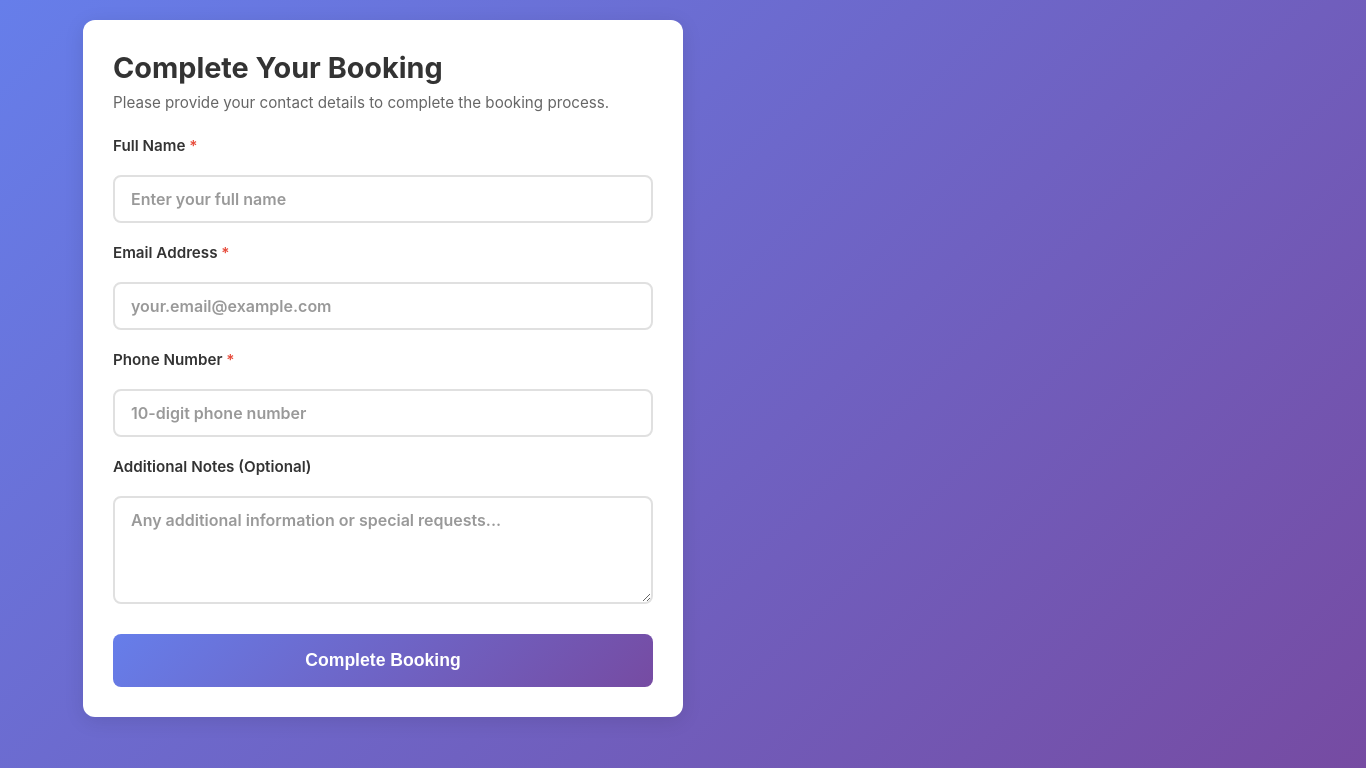
Test case: ContactForm › validates email format
Fill required fields first
Type "John Doe" into the field labelled "Full Name *" at [383, 199], box x1=113 y1=175 x2=653 y2=223
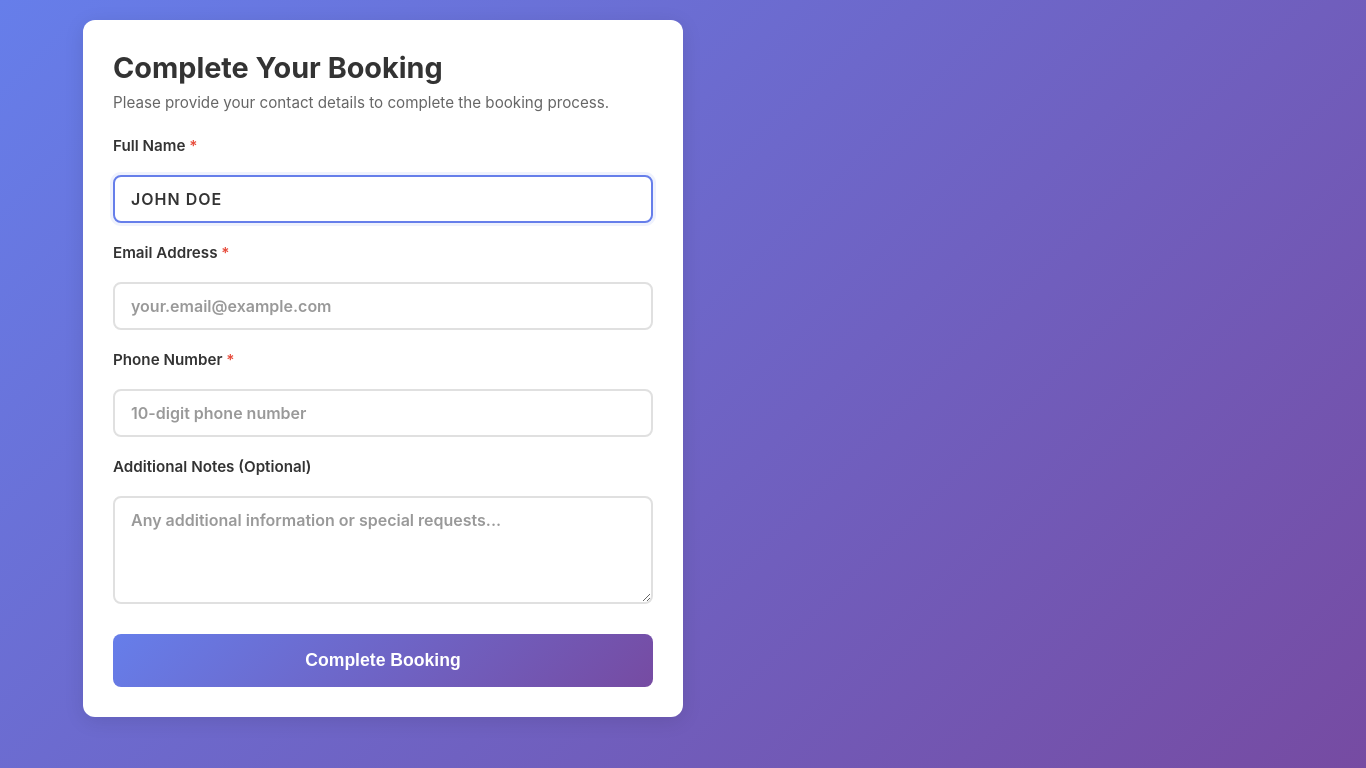
Type "notanemail" into the field labelled "Email Address *" at [383, 306], box x1=113 y1=282 x2=653 y2=330
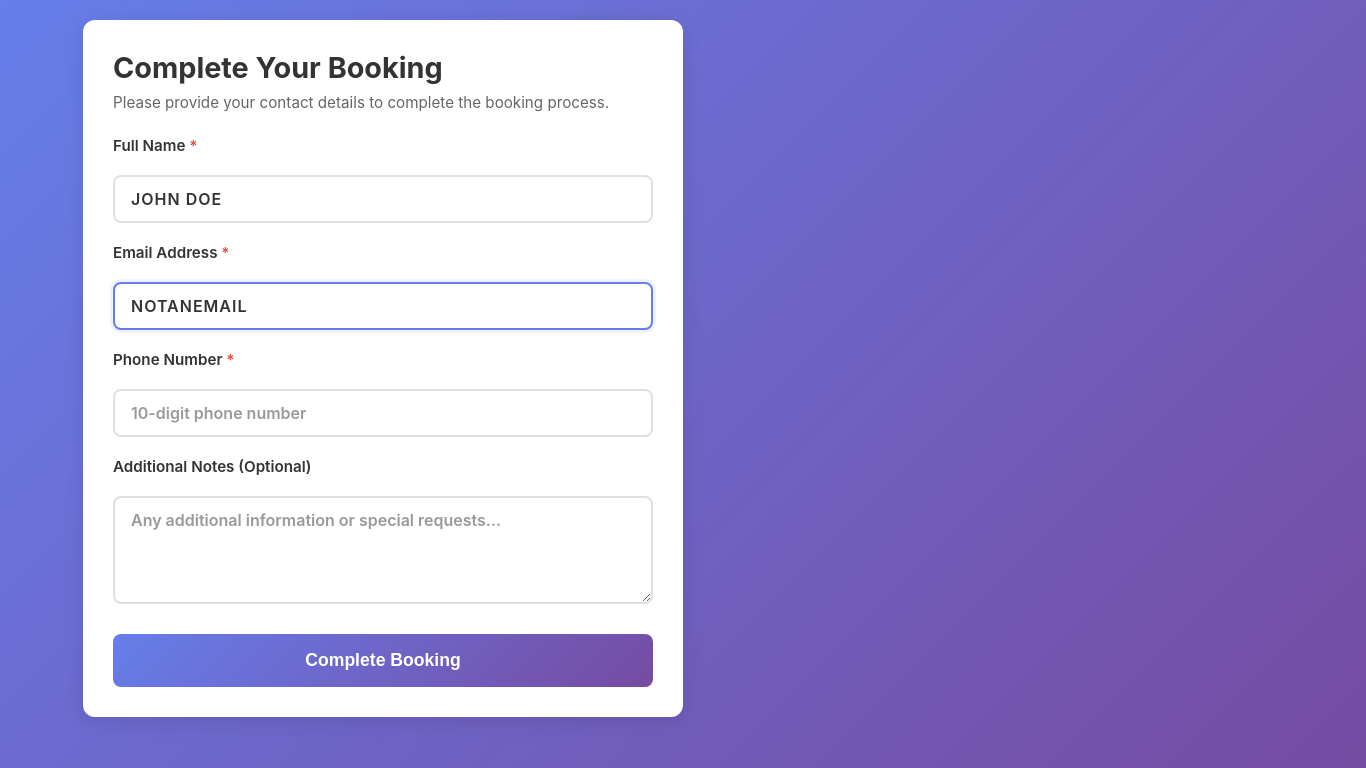
Type "9876543210" into the field labelled "Phone Number *" at [383, 413], box x1=113 y1=389 x2=653 y2=437
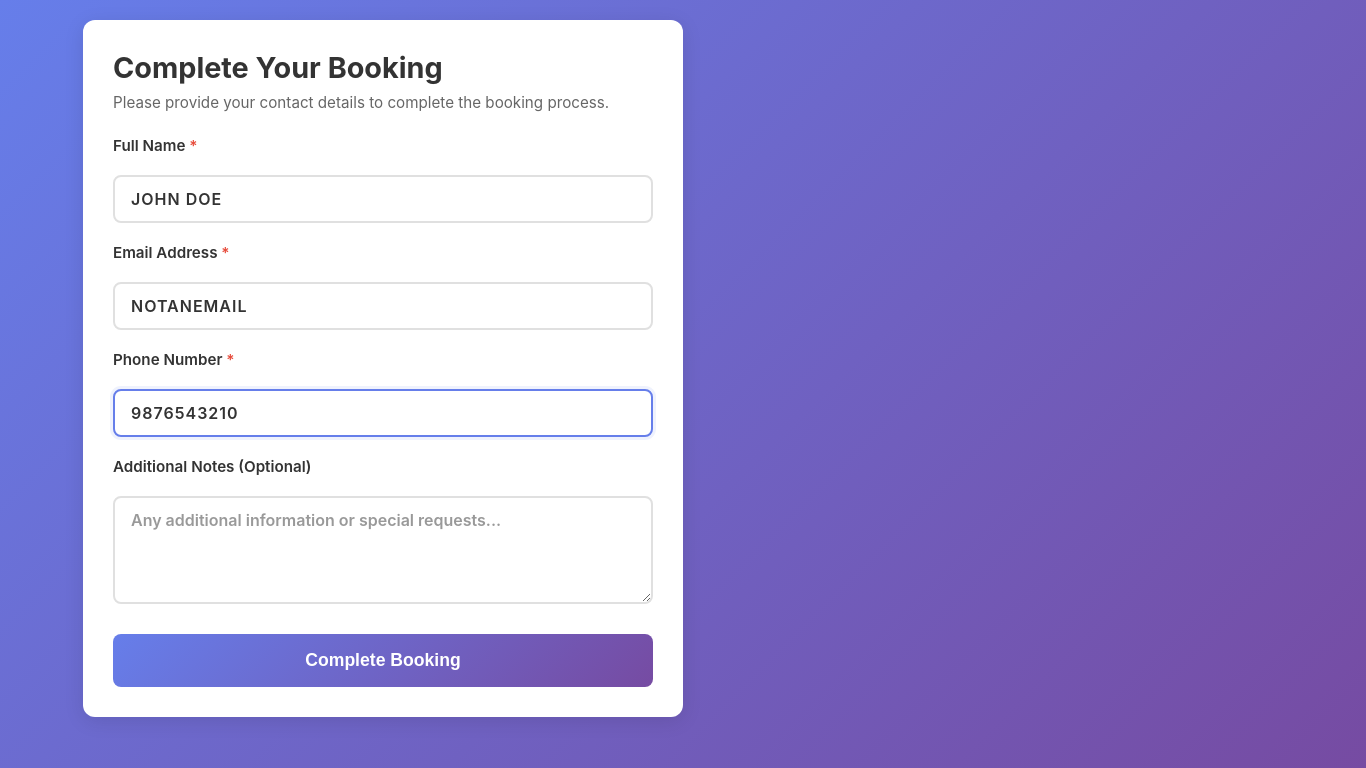
Use fireEvent.submit to bypass HTML5 validation
Submit the form, box x1=83 y1=20 x2=683 y2=717
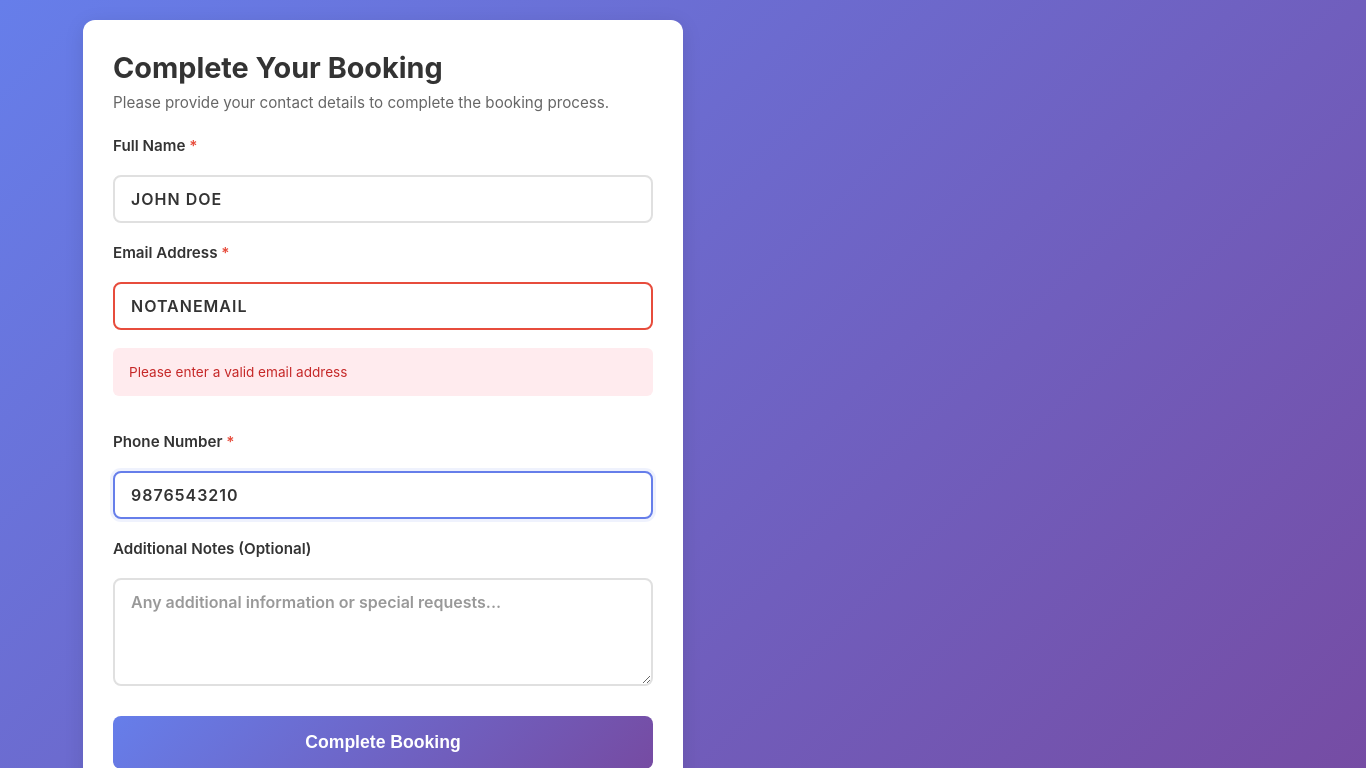
Expected: the text "Please enter a valid email address" is shown, x1=113 y1=348 x2=653 y2=396
